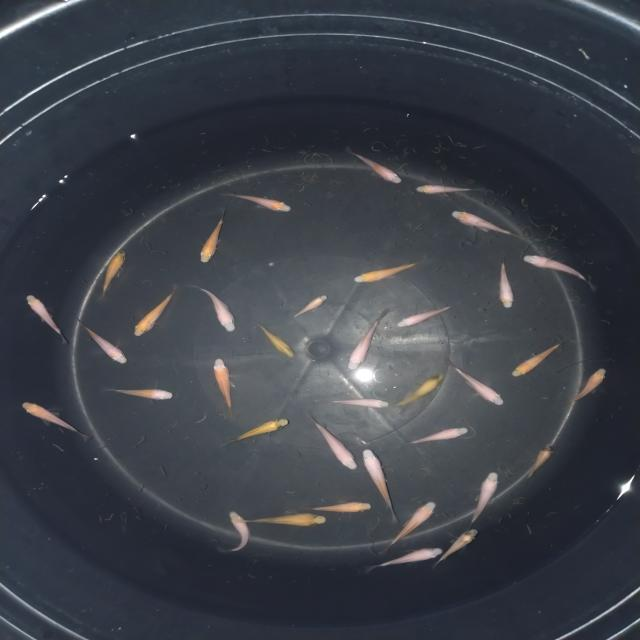nila: (376, 496, 442, 550), (303, 412, 362, 472), (357, 446, 402, 522), (446, 356, 508, 408), (345, 308, 393, 374), (18, 398, 93, 440), (130, 283, 182, 340), (358, 544, 446, 576), (78, 318, 132, 368), (508, 336, 568, 381), (520, 250, 594, 285), (21, 292, 70, 344), (344, 146, 406, 187), (442, 208, 526, 238), (192, 284, 240, 336), (428, 526, 481, 571), (217, 186, 298, 215), (462, 470, 502, 528), (222, 414, 292, 447), (194, 210, 233, 268), (394, 370, 447, 410), (348, 259, 427, 285), (232, 510, 334, 530), (391, 301, 459, 330), (103, 380, 177, 406), (208, 351, 238, 414), (215, 508, 254, 556), (565, 364, 609, 406), (255, 320, 298, 360), (98, 244, 129, 298), (407, 422, 473, 446), (526, 438, 558, 481), (412, 182, 498, 198), (302, 498, 376, 516), (494, 256, 516, 312), (287, 294, 330, 318), (331, 396, 392, 410)
